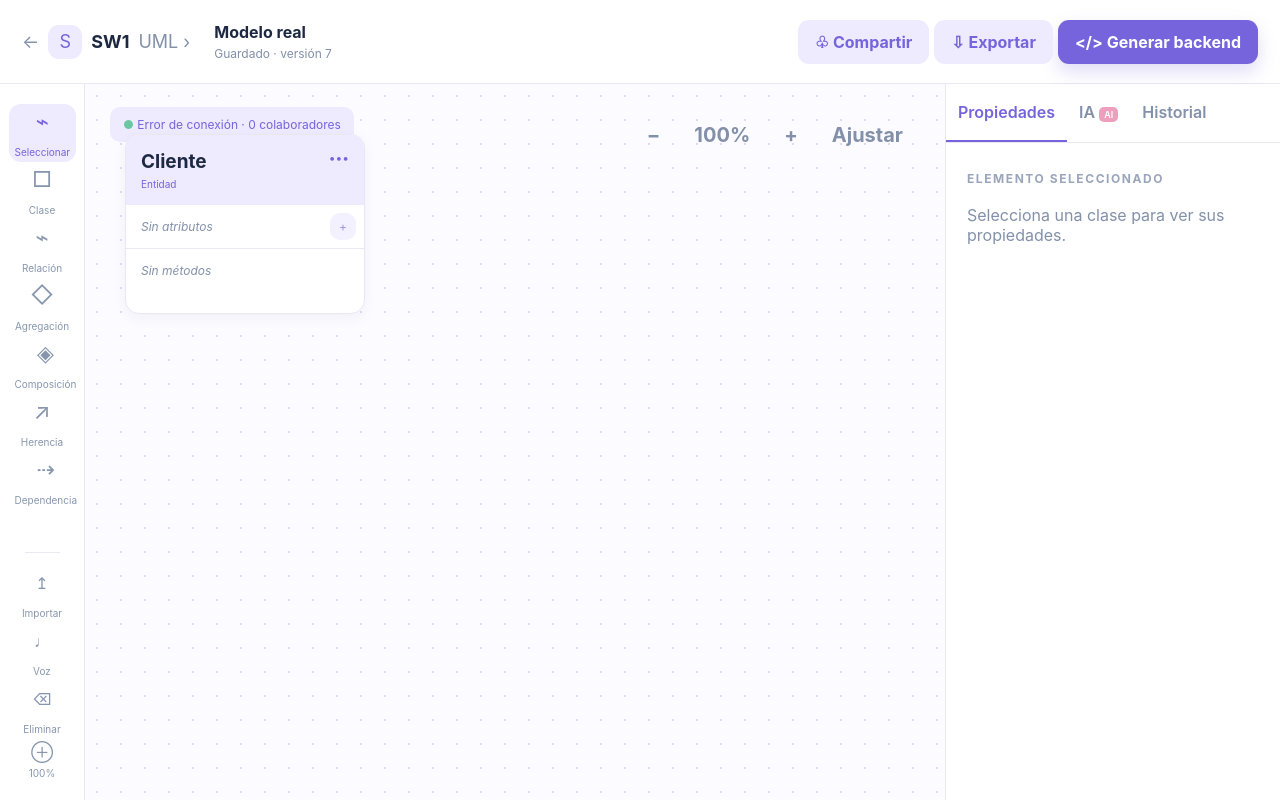
Test: EditorPageComponent › activates class inline editing from the real DOM double-click event
Double-click the text "Cliente" at [174, 162], box [141, 150, 207, 173]
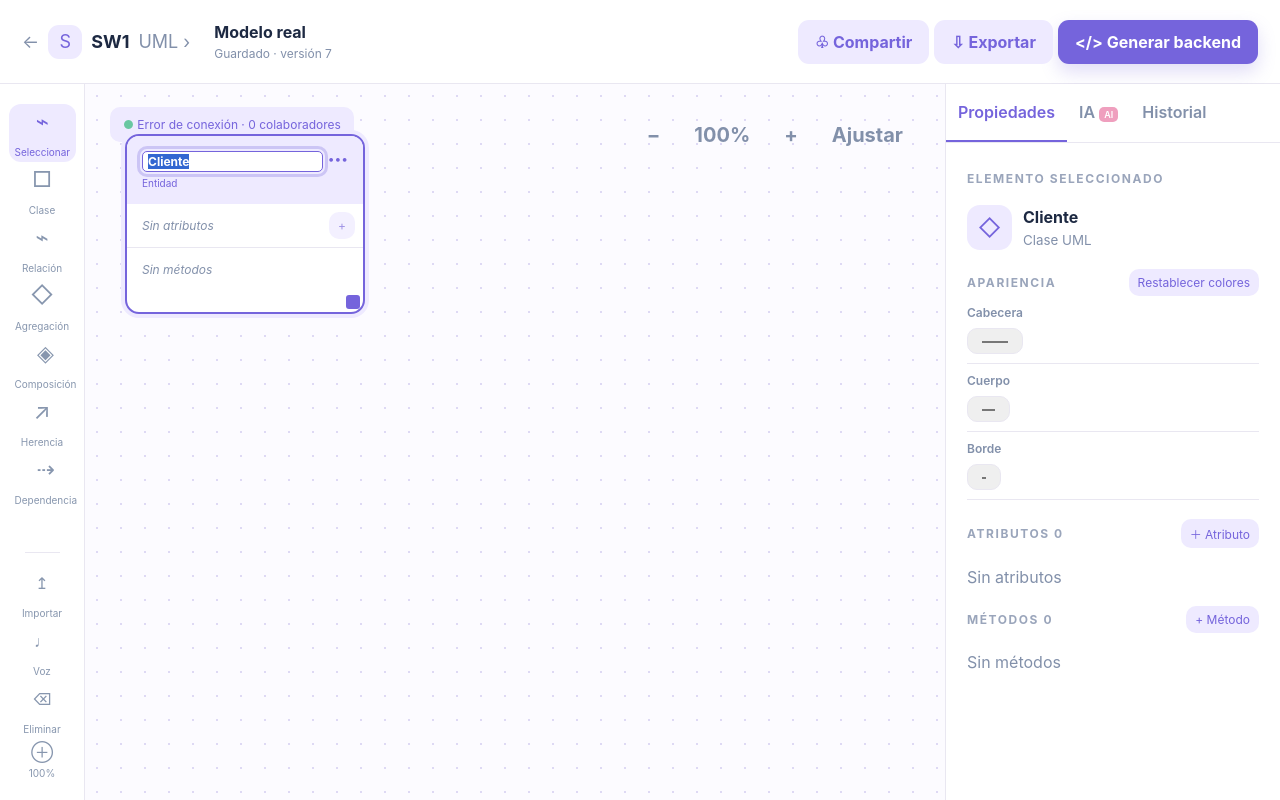
Expected: the field with class "inline-name" is shown, [142, 151, 323, 172]
